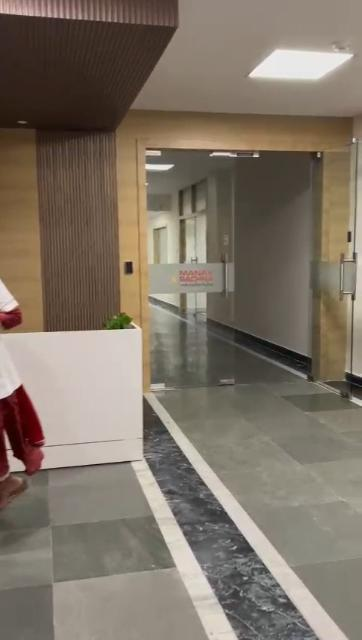floor: (0, 347, 362, 640)
moving-obj: (1, 242, 53, 488)
